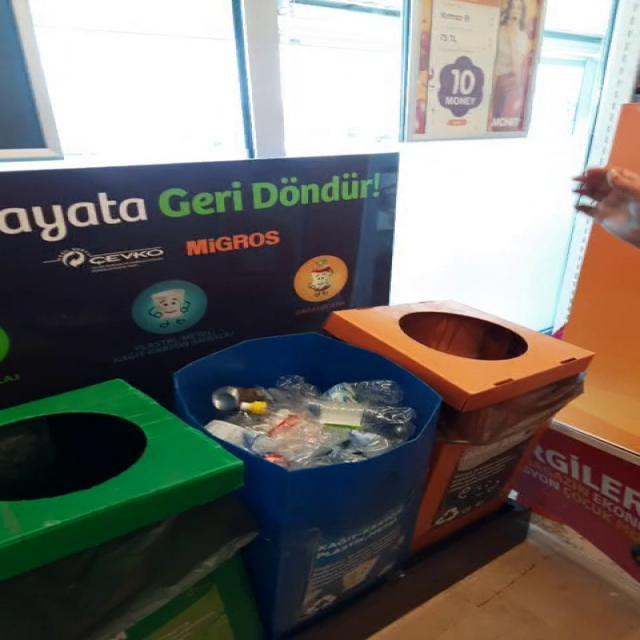Bin: (175, 301, 595, 640)
